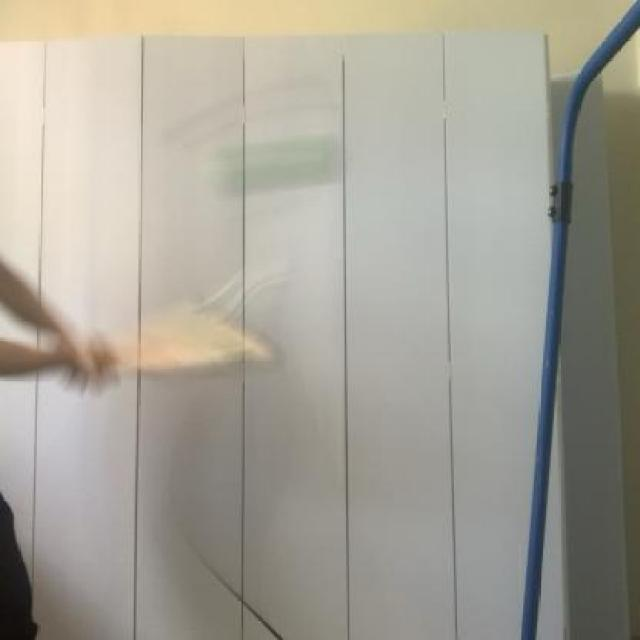baseball: (214, 128, 360, 208)
